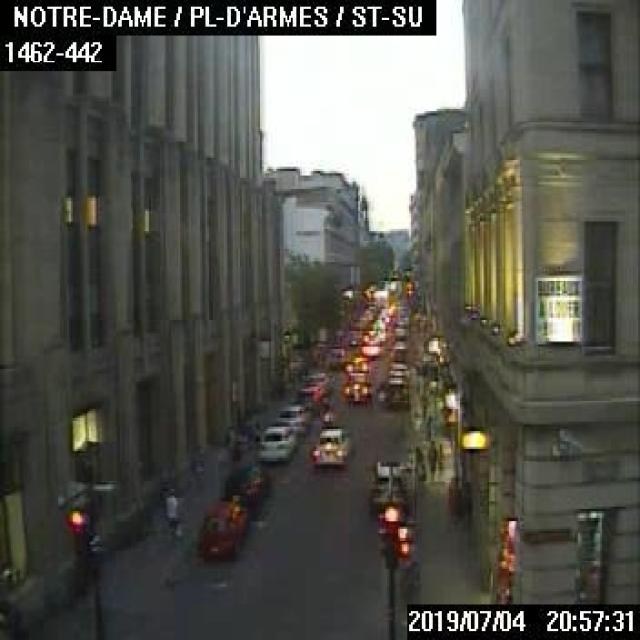pedestrian: (162, 484, 180, 538), (426, 440, 439, 481), (412, 442, 424, 482)
vehicle: (192, 500, 248, 562), (220, 458, 268, 516), (365, 456, 406, 510), (311, 421, 349, 466), (256, 423, 296, 462), (375, 371, 407, 409), (275, 402, 309, 436), (294, 384, 324, 415), (337, 378, 368, 407), (302, 370, 332, 394), (344, 354, 371, 378), (359, 328, 381, 356), (317, 396, 335, 425), (327, 346, 347, 367), (388, 340, 406, 360), (387, 361, 408, 378), (392, 320, 407, 338), (345, 327, 361, 342)
